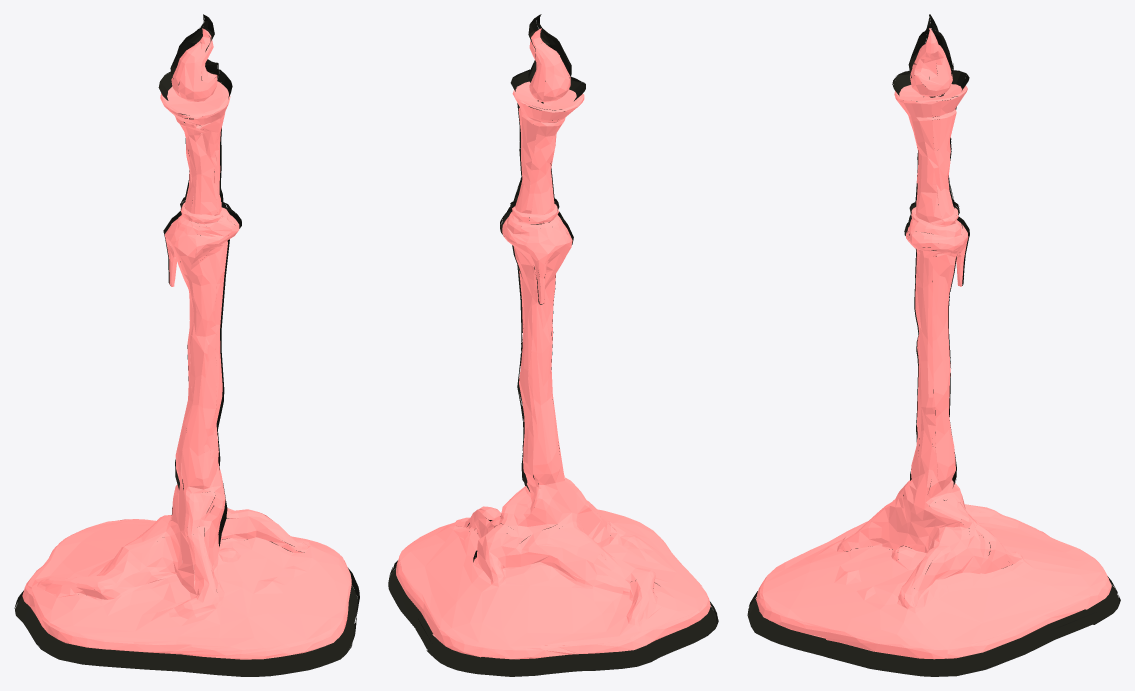
Rendered from df_v2_torch_prop_c_a.glb.
3 views of the same model, side by side, from view 1: azimuth 30°, elevation 25°; view 2: azimuth 150°, elevation 25°; view 3: azimuth 270°, elevation 25° (orthographic).
Visible parts, largest first — view 1: torch_prop_c_mesh_01, torch_prop_c_mesh_01_ink_outline; view 2: torch_prop_c_mesh_01, torch_prop_c_mesh_01_ink_outline; view 3: torch_prop_c_mesh_01, torch_prop_c_mesh_01_ink_outline.
Part boxes in pixels (left/top/right/bottom): torch_prop_c_mesh_01: left=22, top=28, right=351, bottom=659; torch_prop_c_mesh_01_ink_outline: left=14, top=14, right=359, bottom=676; torch_prop_c_mesh_01: left=396, top=28, right=710, bottom=659; torch_prop_c_mesh_01_ink_outline: left=388, top=14, right=718, bottom=676; torch_prop_c_mesh_01: left=756, top=28, right=1111, bottom=659; torch_prop_c_mesh_01_ink_outline: left=747, top=14, right=1120, bottom=676.
Size of the model in its own units: 0.9016 by 1.66 by 0.9474.
